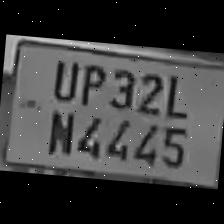2: (132, 66, 166, 116)
3: (103, 60, 138, 111)
4: (72, 108, 106, 160), (128, 114, 160, 166), (102, 111, 132, 162)
5: (156, 117, 189, 170)
L: (160, 68, 194, 119)
N: (42, 104, 77, 156)
P: (75, 56, 108, 107)
U: (46, 52, 81, 106)
